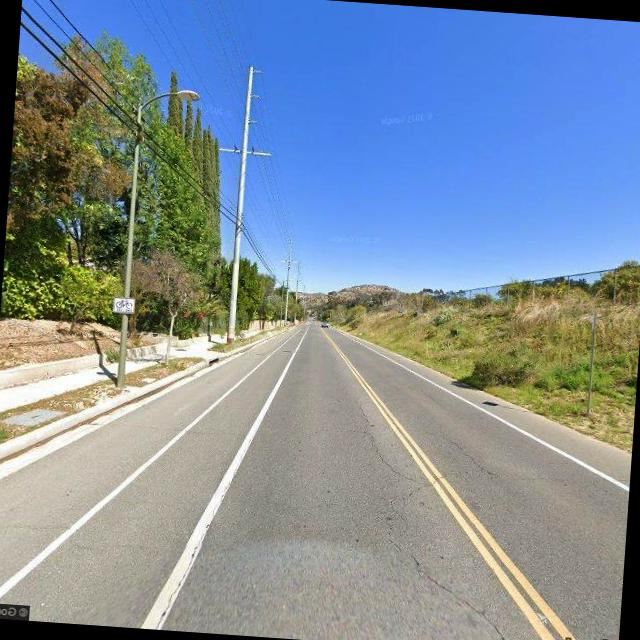crack: (341, 398, 522, 640), (440, 435, 499, 475)
